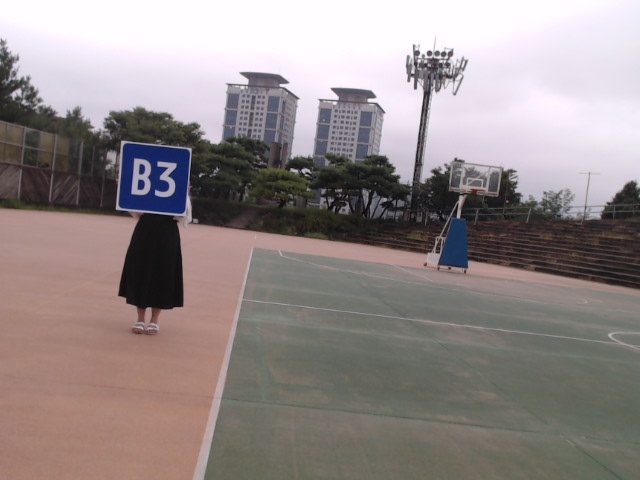delivery_b3: (116, 141, 191, 215)
